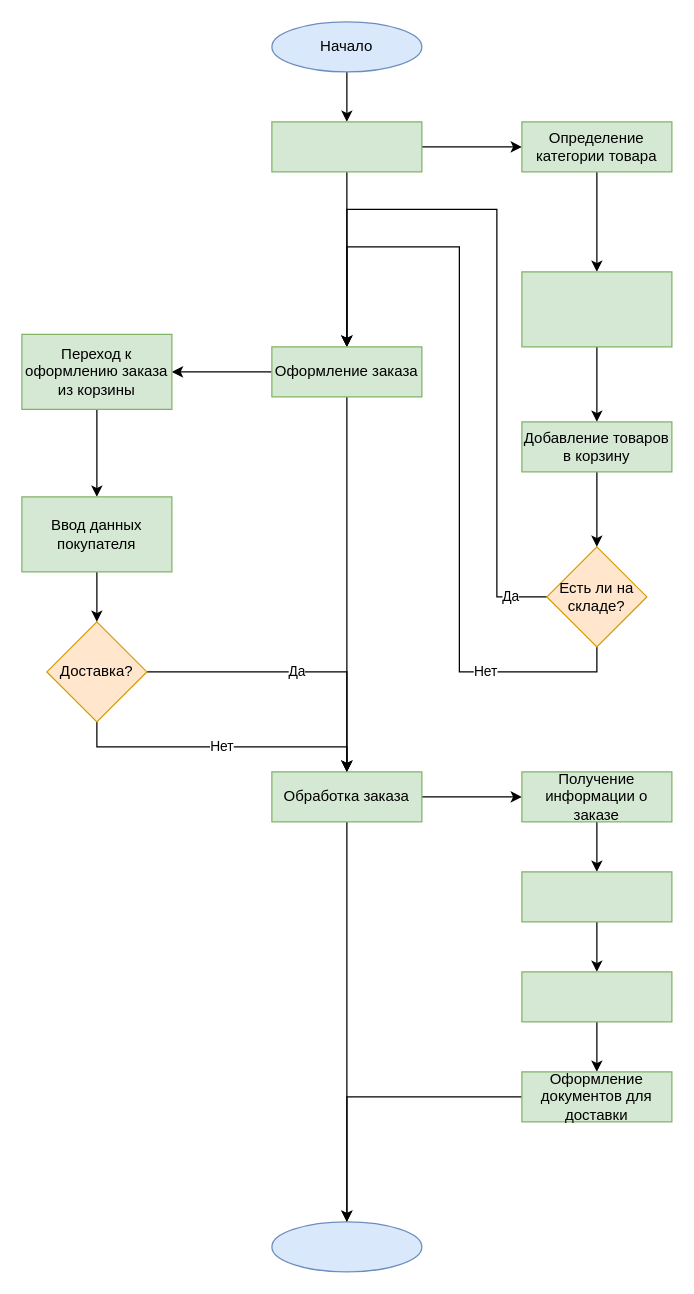
Image size: 694x1294. Some labels were removed from this diagram. The shapes that lost their labels are listed below. From the top down, each one's box as (x1, y1, x2, y2) in pixels, then its label:
(271, 121, 422, 172): Выбор товаров
(521, 271, 672, 347): Поиск и просмотр товаров в выбранной категории
(521, 871, 672, 922): Подтверждение заказа клиентом
(521, 971, 672, 1022): Подготовка товаров к доставке
(271, 1221, 422, 1272): Конец
